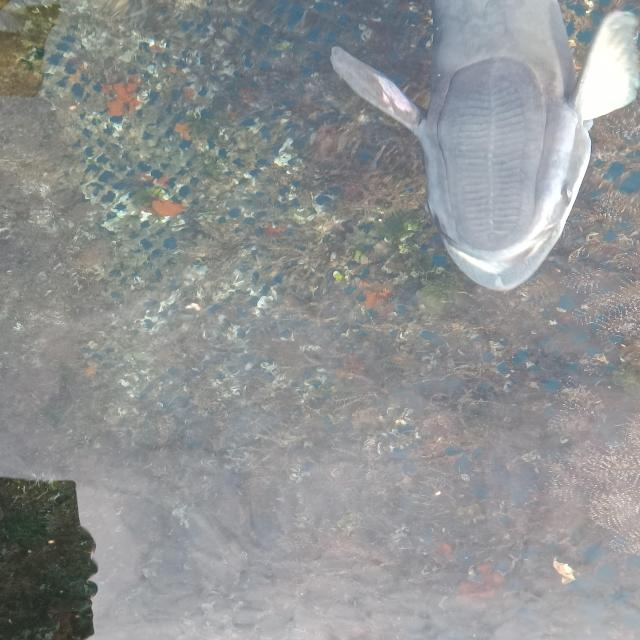ikan: (328, 0, 638, 292)
